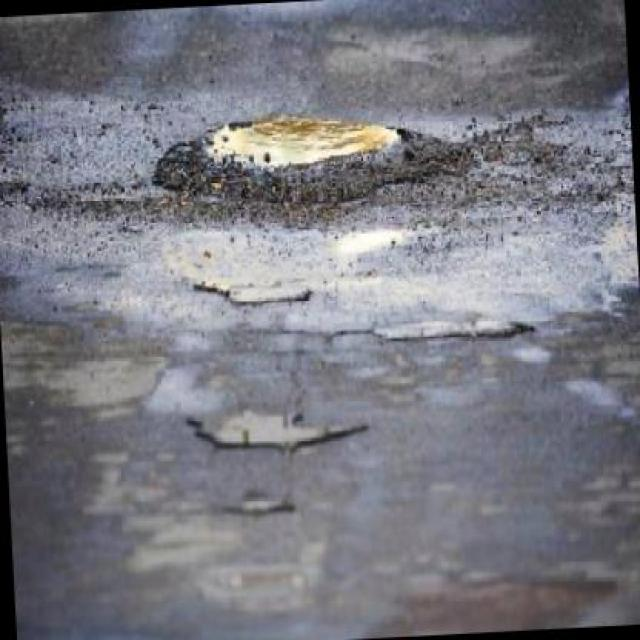pothole1: (147, 107, 470, 222), (183, 403, 368, 457), (370, 319, 532, 352), (191, 276, 311, 310), (220, 496, 295, 522)
